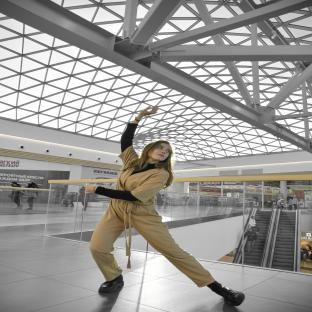Human: (85, 106, 245, 306)
